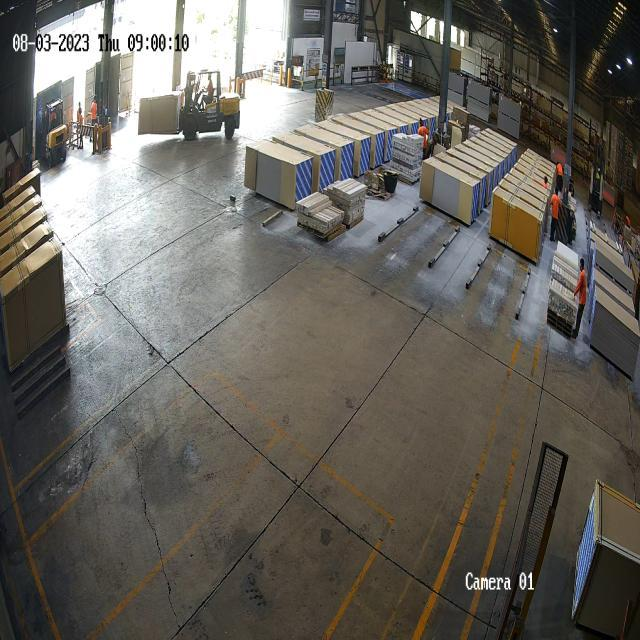driver: (200, 74, 216, 111)
forklift: (180, 62, 243, 146), (40, 95, 69, 166), (588, 164, 604, 218)
person: (575, 257, 588, 346), (549, 184, 561, 243), (418, 120, 428, 149), (91, 95, 97, 125), (556, 160, 562, 183)
